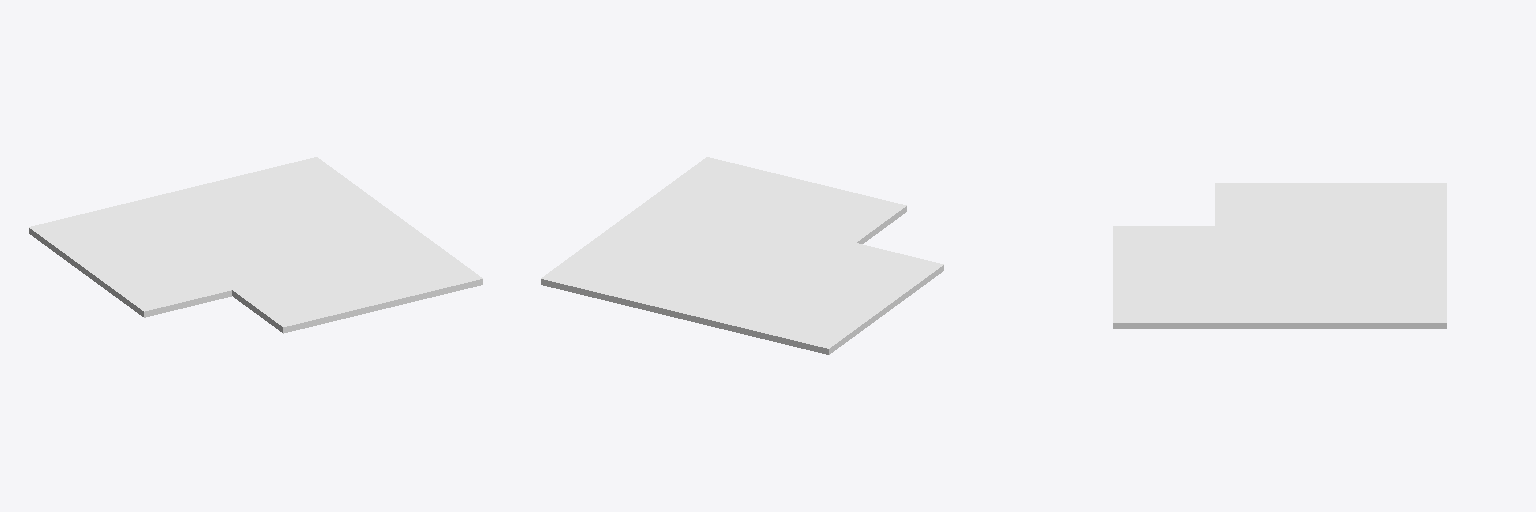
The model's file is plainroad_intersection_turn.obj.
3 renders of one model, left to right at view 1: azimuth 30°, elevation 25°; view 2: azimuth 150°, elevation 25°; view 3: azimuth 270°, elevation 25°, orthographic.
Parts seen in each view (by area): view 1: object 1; view 2: object 1; view 3: object 1.
Boxes of the visible parts, x1=… form: object 1: x1=29, y1=157, x2=482, y2=333; object 1: x1=541, y1=157, x2=943, y2=354; object 1: x1=1113, y1=183, x2=1446, y2=328.
Bounding box in the file's own units: 4.9 × 0.1 × 4.9.